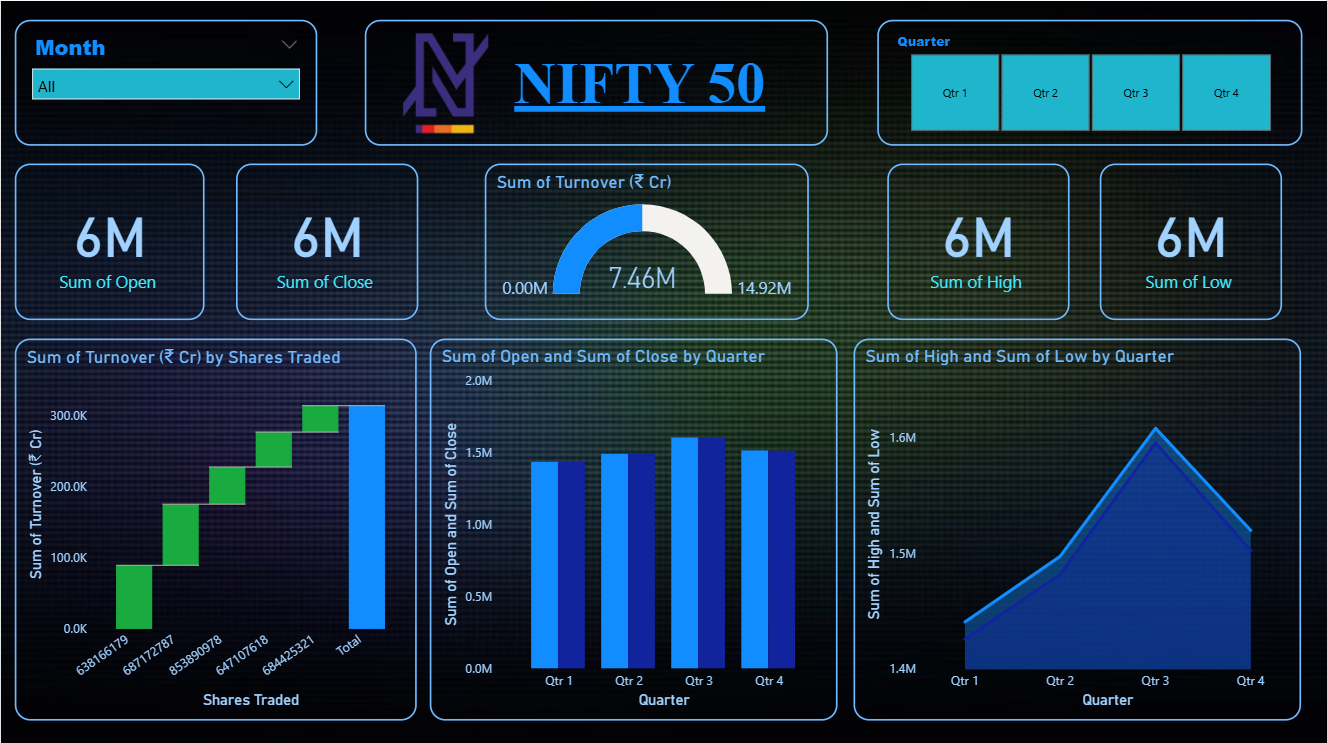

This screenshot's page, from the dashboard's own definition file:
{"tool":"powerbi","page":{"name":"Page 1","canvas":[1280,720],"ordinal":0},"visuals":[{"type":"areaChart","fields":{"Category":["NIFTY 50-16-07-2024-to-16-07-2025.Date .Variation.Date Hierarchy.Quarter"],"Y":["Sum(NIFTY 50-16-07-2024-to-16-07-2025.High )","Sum(NIFTY 50-16-07-2024-to-16-07-2025.Low )"]},"box":[823.3,325.2,432.2,369.1],"z":0},{"type":"slicer","fields":{"Values":["NIFTY 50-16-07-2024-to-16-07-2025.Date .Variation.Date Hierarchy.Quarter"]},"box":[845.7,18.1,410.2,121.9],"z":1000},{"type":"textbox","box":[351.1,18.1,447.6,121.9],"z":2000},{"type":"waterfallChart","fields":{"Category":["NIFTY 50-16-07-2024-to-16-07-2025.Shares Traded "],"Y":["Sum(NIFTY 50-16-07-2024-to-16-07-2025.Turnover (₹ Cr))"]},"box":[13.7,325.2,388.3,369.1],"z":3000},{"type":"slicer","fields":{"Values":["NIFTY 50-16-07-2024-to-16-07-2025.Date .Variation.Date Hierarchy.Month"]},"box":[13.3,18.1,292,121.9],"z":4000},{"type":"clusteredColumnChart","fields":{"Category":["NIFTY 50-16-07-2024-to-16-07-2025.Date .Variation.Date Hierarchy.Quarter"],"Y":["Sum(NIFTY 50-16-07-2024-to-16-07-2025.Open )","Sum(NIFTY 50-16-07-2024-to-16-07-2025.Close )"]},"box":[414.4,325.2,393.8,369.1],"z":5000},{"type":"card","fields":{"Values":["Sum(NIFTY 50-16-07-2024-to-16-07-2025.Open )"]},"box":[13.3,156.8,183.4,150.8],"z":6000},{"type":"gauge","fields":{"Y":["Sum(NIFTY 50-16-07-2024-to-16-07-2025.Turnover (₹ Cr))"]},"box":[466.6,156.4,312.9,150.9],"z":7000},{"type":"card","fields":{"Values":["Sum(NIFTY 50-16-07-2024-to-16-07-2025.Close )"]},"box":[226.4,156.4,175.6,150.9],"z":8000},{"type":"card","fields":{"Values":["Sum(NIFTY 50-16-07-2024-to-16-07-2025.High )"]},"box":[854.9,156.4,175.6,150.9],"z":9000},{"type":"card","fields":{"Values":["Sum(NIFTY 50-16-07-2024-to-16-07-2025.Low )"]},"box":[1060.7,156.4,175.6,150.9],"z":10000},{"type":"image","box":[351.1,0,149.6,149.6],"z":11000}]}

Visuals, with their boxes in screenshot pixels (x1, y1, x2, y2), scaled from the page's 1280x720 canvas onto the 1327x743 screenshot:
areaChart - NIFTY 50-16-07-2024-to-16-07-2025.Date .Variation.Date Hierarchy.Quarter x Sum(NIFTY 50-16-07-2024-to-16-07-2025.High ): BBox(854, 336, 1302, 716)
slicer - NIFTY 50-16-07-2024-to-16-07-2025.Date .Variation.Date Hierarchy.Quarter: BBox(877, 19, 1302, 144)
textbox: BBox(364, 19, 828, 144)
waterfallChart - NIFTY 50-16-07-2024-to-16-07-2025.Shares Traded  x Sum(NIFTY 50-16-07-2024-to-16-07-2025.Turnover (₹ Cr)): BBox(14, 336, 417, 716)
slicer - NIFTY 50-16-07-2024-to-16-07-2025.Date .Variation.Date Hierarchy.Month: BBox(14, 19, 317, 144)
clusteredColumnChart - NIFTY 50-16-07-2024-to-16-07-2025.Date .Variation.Date Hierarchy.Quarter x Sum(NIFTY 50-16-07-2024-to-16-07-2025.Open ): BBox(430, 336, 838, 716)
card - Sum(NIFTY 50-16-07-2024-to-16-07-2025.Open ): BBox(14, 162, 204, 317)
gauge - Sum(NIFTY 50-16-07-2024-to-16-07-2025.Turnover (₹ Cr)): BBox(484, 161, 808, 317)
card - Sum(NIFTY 50-16-07-2024-to-16-07-2025.Close ): BBox(235, 161, 417, 317)
card - Sum(NIFTY 50-16-07-2024-to-16-07-2025.High ): BBox(886, 161, 1068, 317)
card - Sum(NIFTY 50-16-07-2024-to-16-07-2025.Low ): BBox(1100, 161, 1282, 317)
image: BBox(364, 0, 519, 154)
